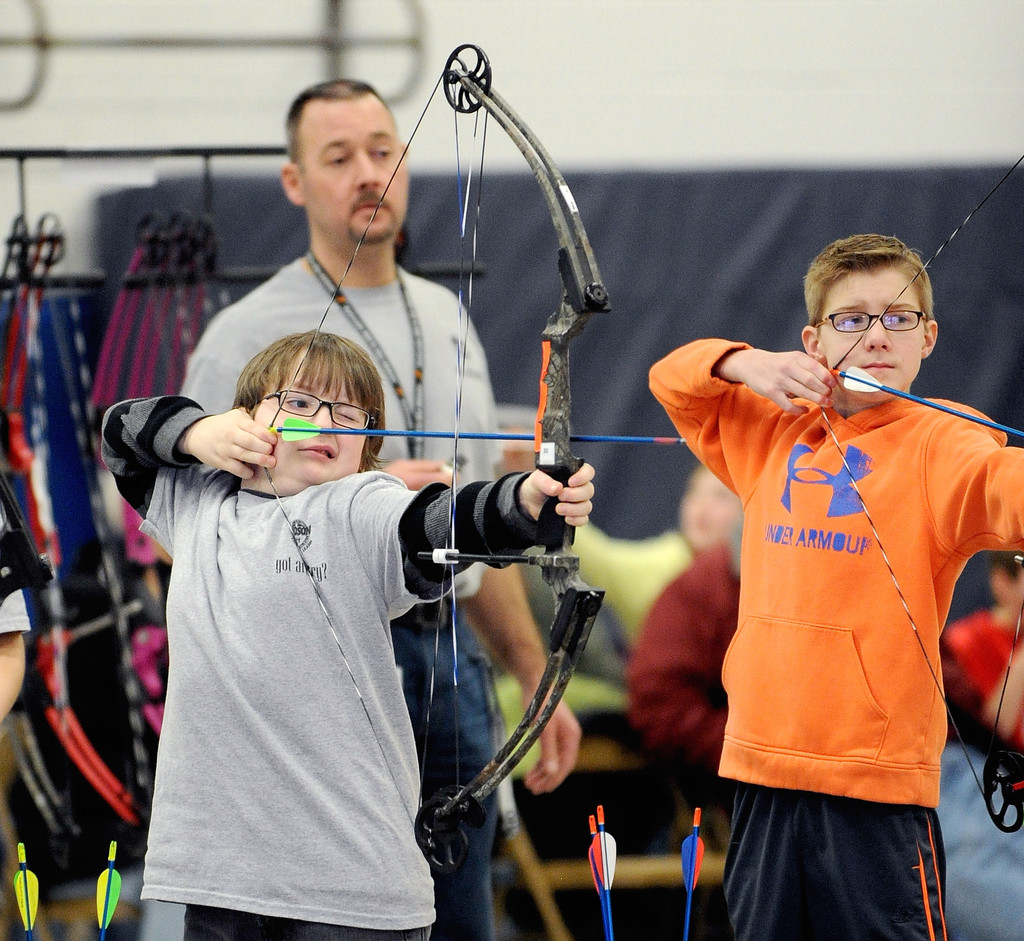Person: (0, 79, 1024, 940)
